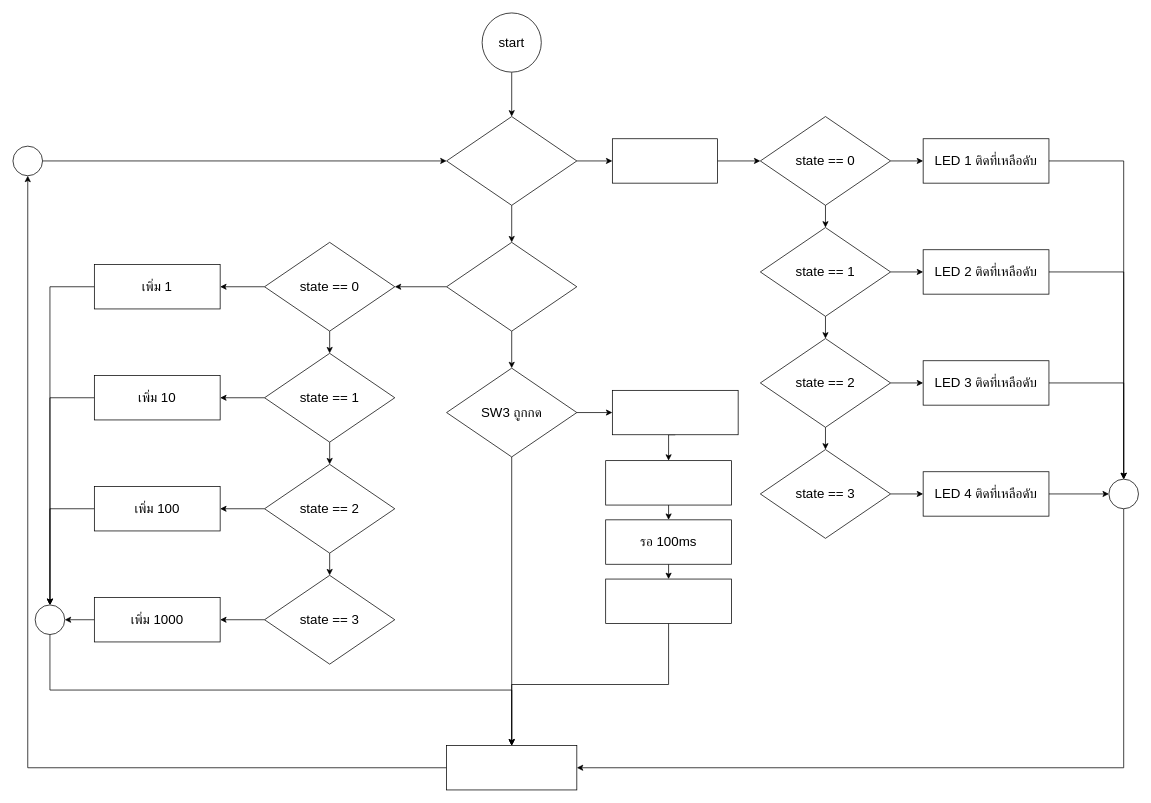
The diagram is 1151 pixels wide and 803 high, and some of its shapes have lost their labels. Here are the shapes that lost their labels. From the top down, the centre of each, then its label:
point 511,160: SW1 ถูกกด
point 664,160: state = (state + 1) % 4
point 511,286: SW2 ถูกกด
point 675,412: ให้เลขเป็น 0
point 668,482: buzzer ทำงาน
point 668,600: buzzer หยุดทำงาน
point 511,767: เเสดงเลขที่ 7 segment
